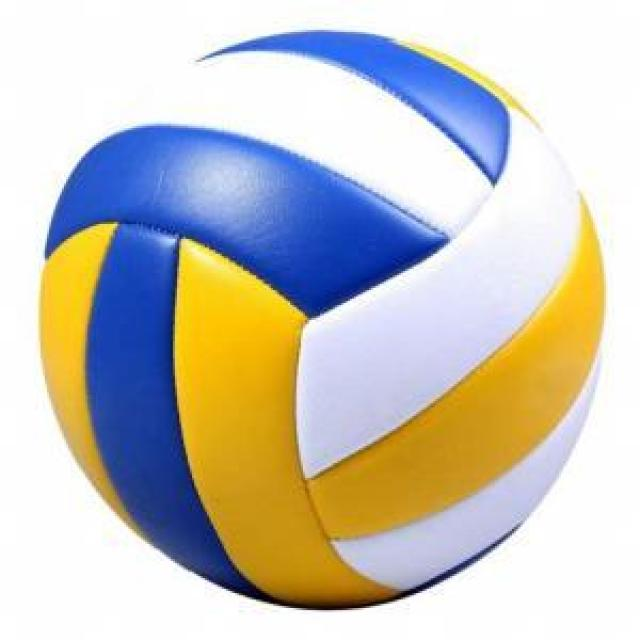volleyball: (41, 29, 604, 611)
